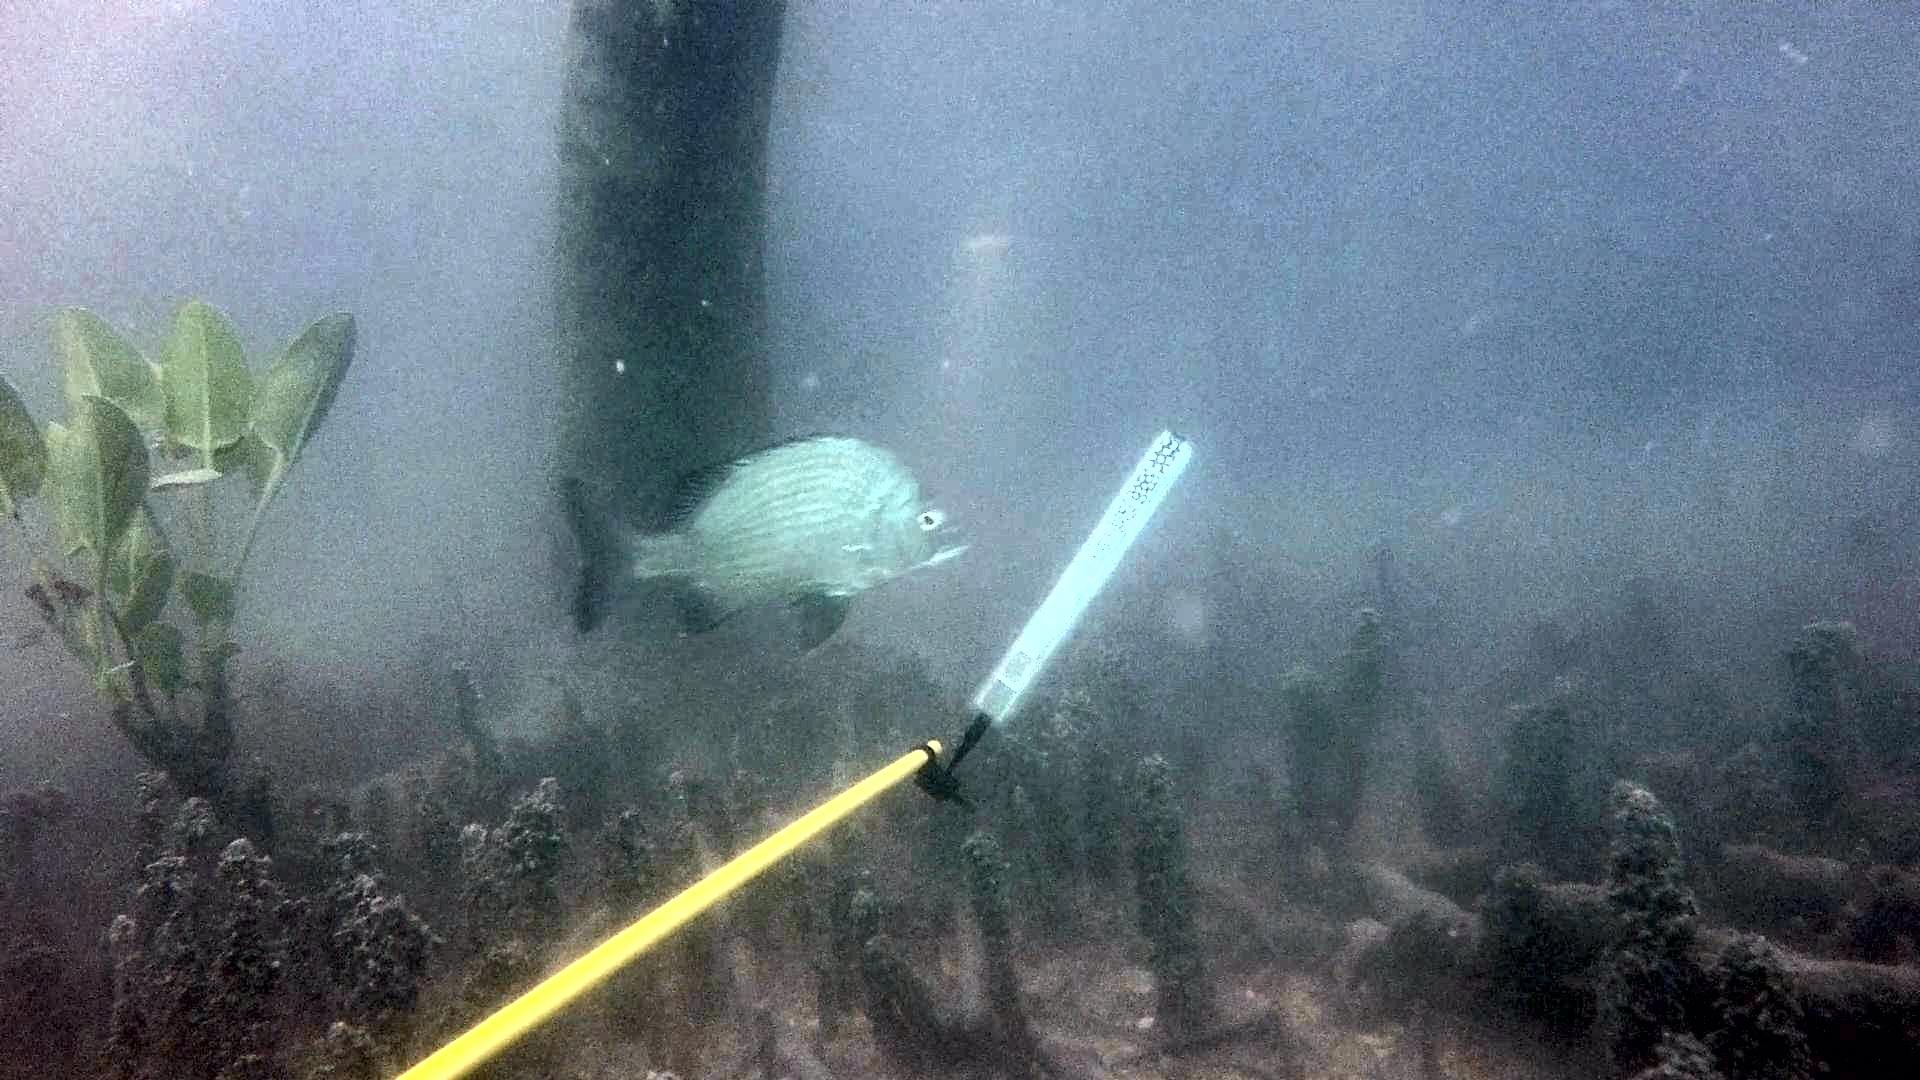acanthopagrus palmaris: (554, 424, 979, 663)
